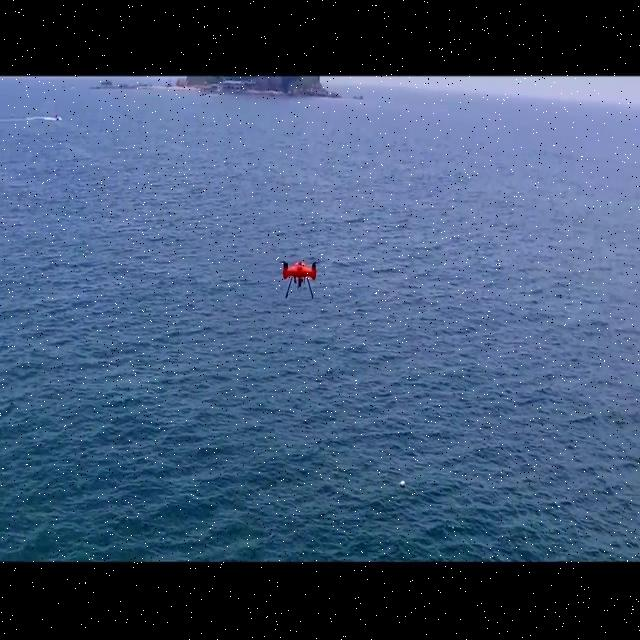UAV: (278, 261, 320, 299)
